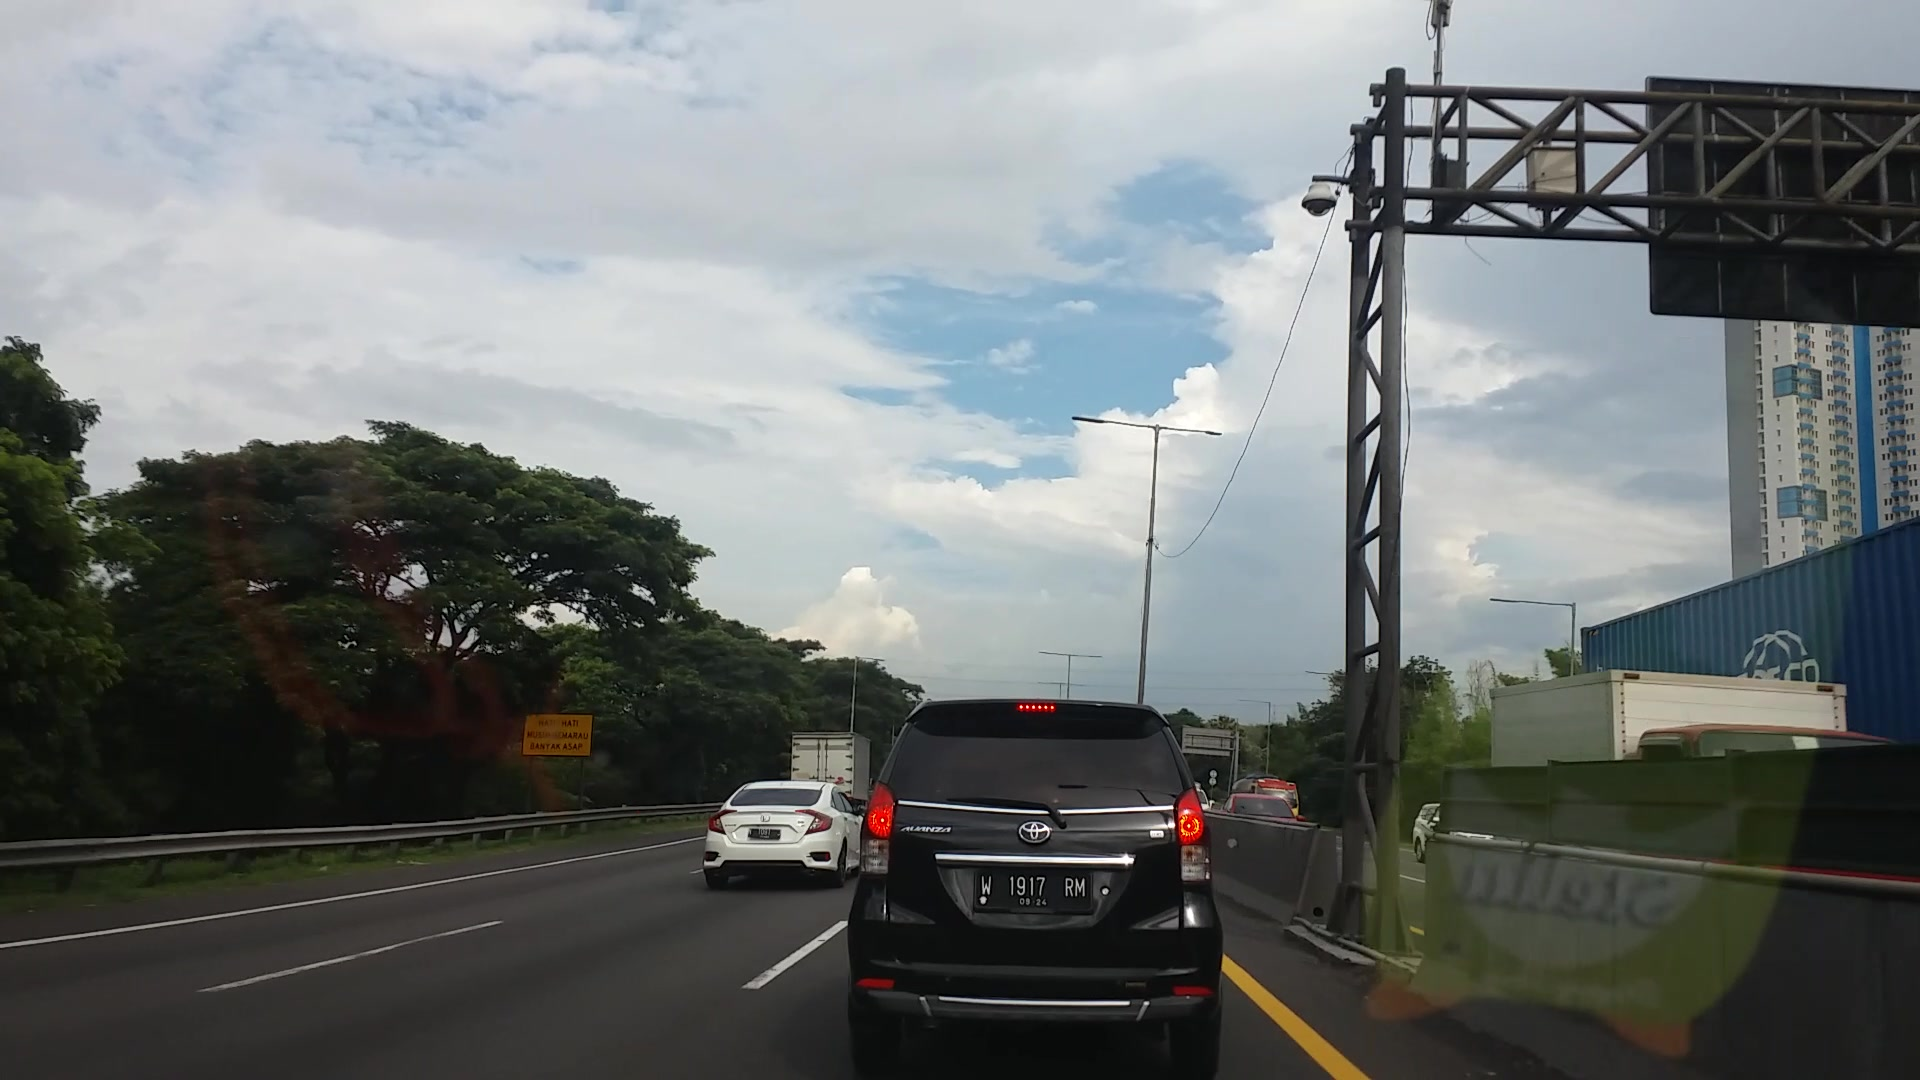plate_positive: (973, 866, 1092, 914)
